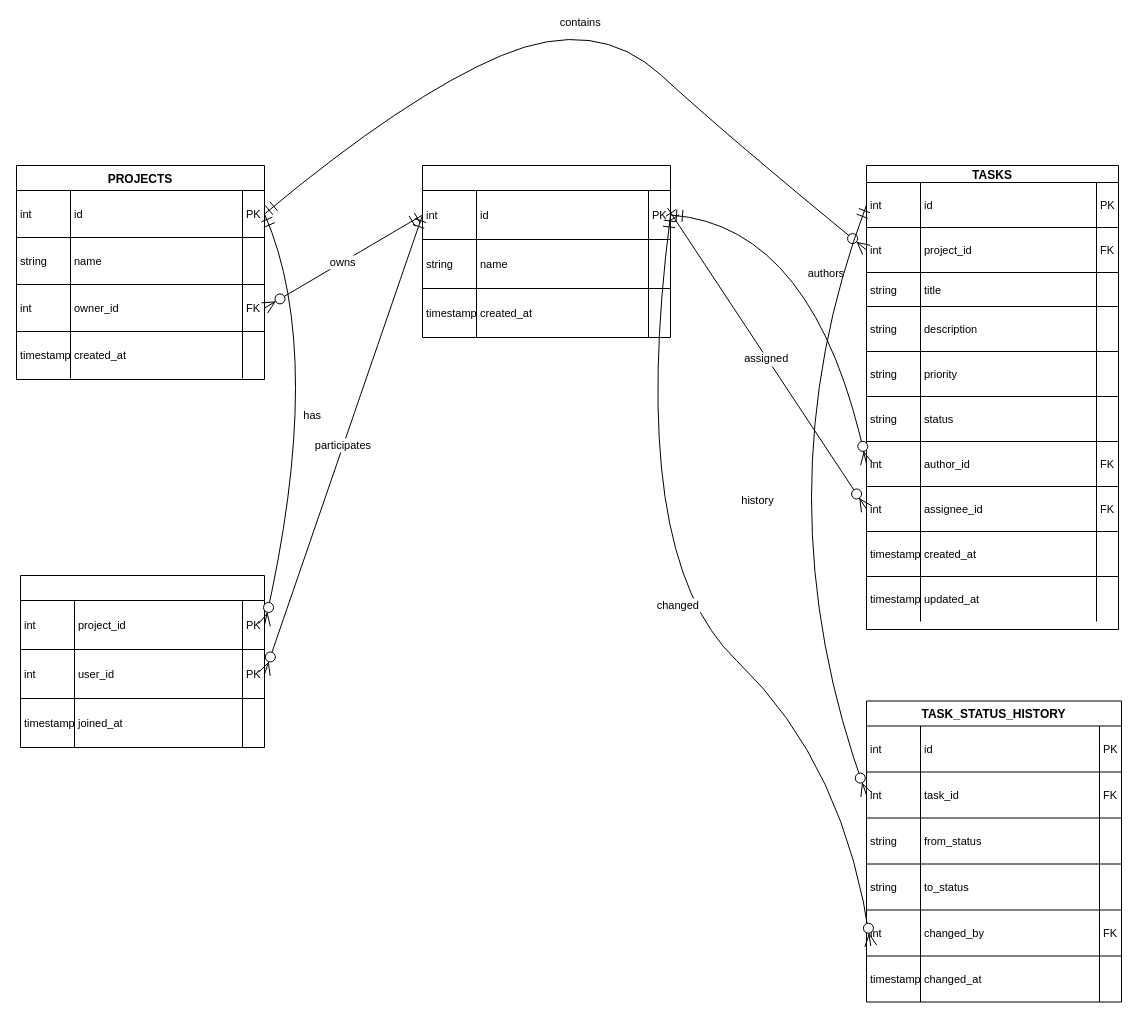
Some shapes in this 1138 by 1018 pixel diagram are drawn without their labels. Here are the shapes that lost their labels. From the top down, the box of each, then its label:
(422, 164, 670, 338): USERS
(20, 574, 264, 748): PROJECT_MEMBERS
